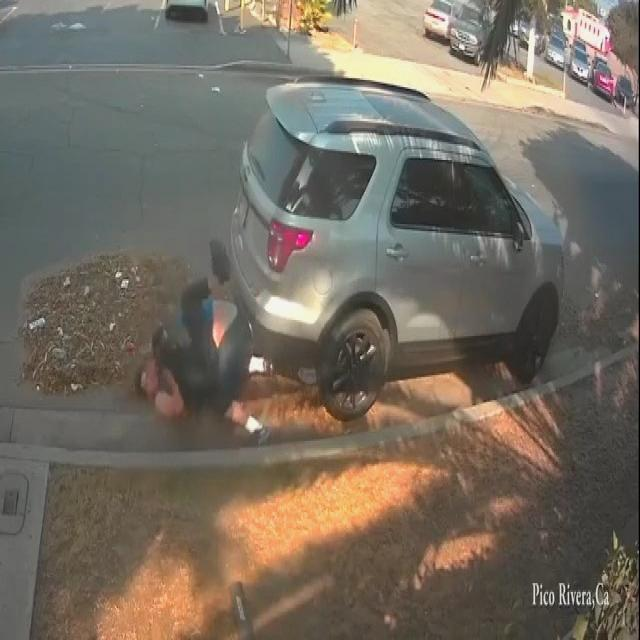fight: (139, 232, 273, 442)
